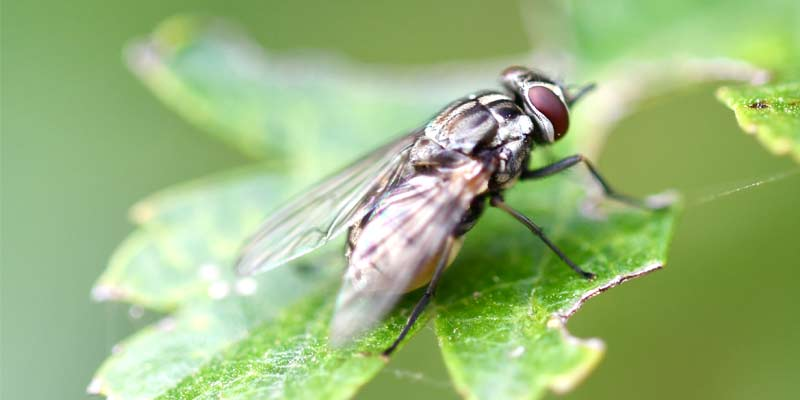green bottles fly: (217, 37, 655, 366)
